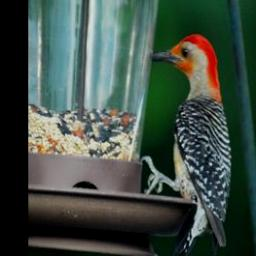Woodpecker: (141, 33, 235, 256)
